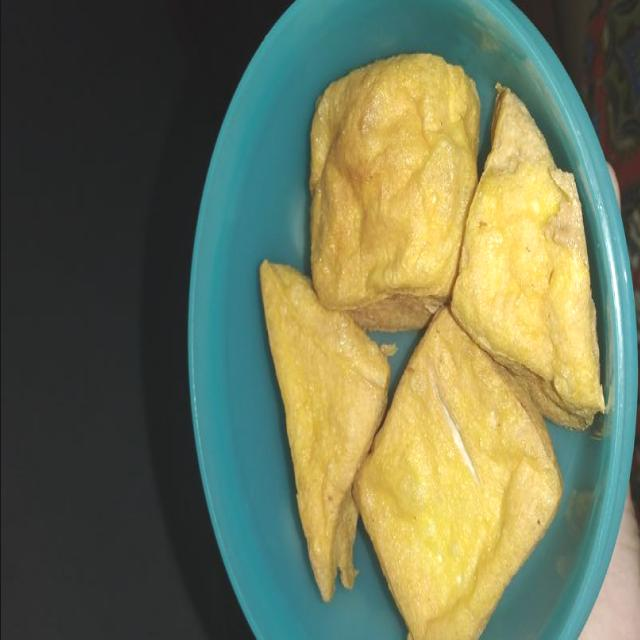tahu goreng: (353, 306, 563, 640), (449, 93, 605, 430), (309, 54, 483, 330), (258, 260, 391, 597)
